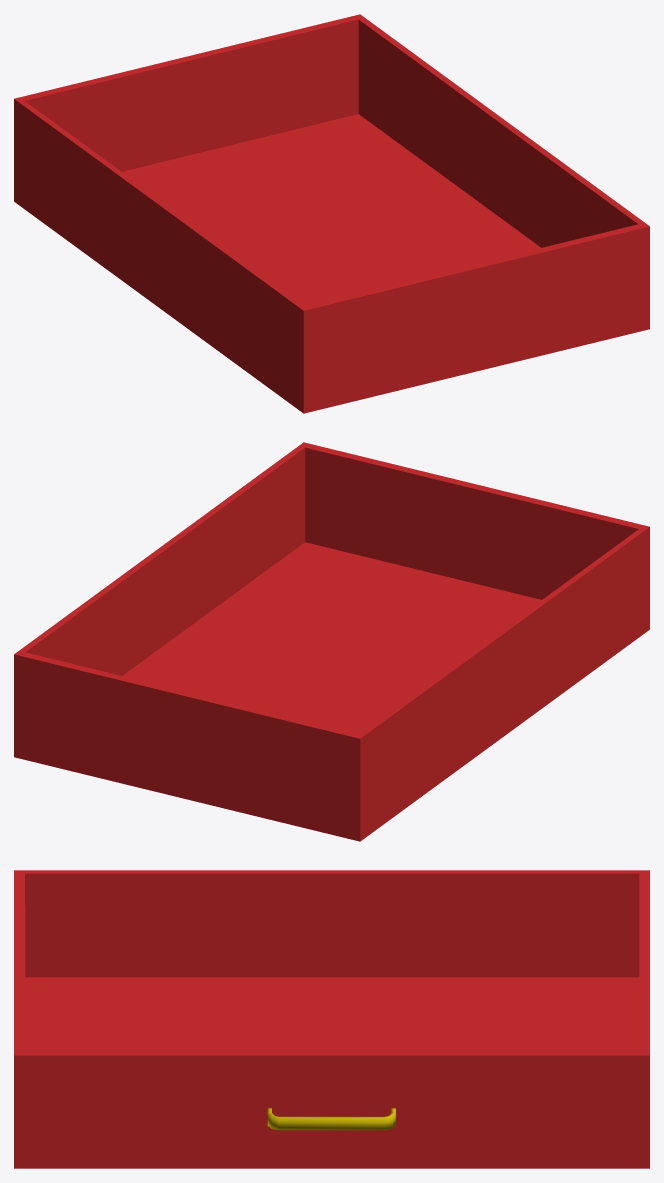
File: MOD_COL_Bathroom_counter_door_01.fbx
3 renders of one model, top to bottom at view 1: azimuth 30°, elevation 25°; view 2: azimuth 150°, elevation 25°; view 3: azimuth 270°, elevation 25°, orthographic. The views are drawn at different scales.
Parts seen in each view (by area): view 1: HSHP_MOD_Bathroom_counter_door_01; view 2: HSHP_MOD_Bathroom_counter_door_01; view 3: HSHP_MOD_Bathroom_counter_door_01.
Part boxes in pixels (left/top/right/bottom): HSHP_MOD_Bathroom_counter_door_01: left=14, top=14, right=649, bottom=413; HSHP_MOD_Bathroom_counter_door_01: left=14, top=442, right=649, bottom=841; HSHP_MOD_Bathroom_counter_door_01: left=14, top=870, right=649, bottom=1168.
Bounding box in the file's own units: 0.6584 × 0.1773 × 0.9054.
